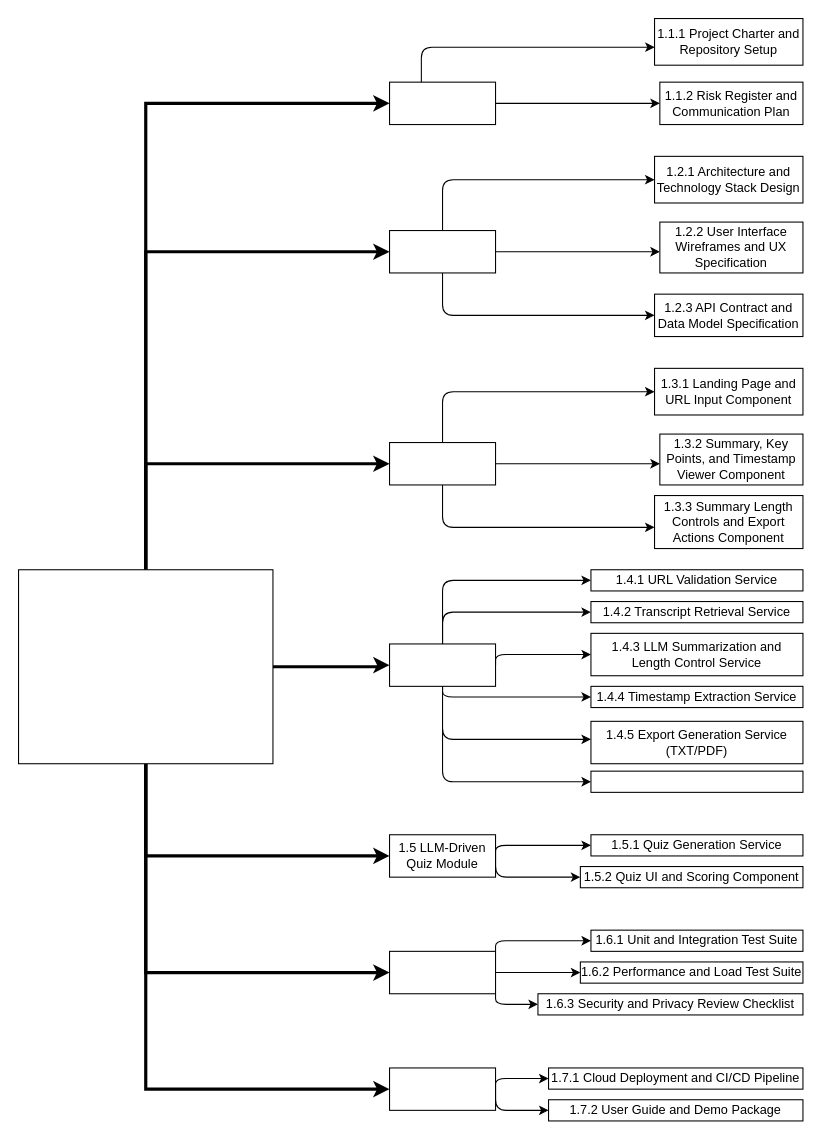
Image size: 821x1139. Some labels were removed from this diagram. Each missing label, with the box of its shape:
1.0 QuickClip (Video Summarizer + Practice Quiz) Project: (17, 569, 273, 764)
1.1 Project Management: (388, 81, 496, 125)
1.2 Requirements and Design: (388, 229, 496, 273)
1.3 Frontend Application: (388, 441, 496, 485)
1.4 Backend Services: (388, 643, 496, 686)
1.4.6 Caching and Storage Module: (590, 770, 803, 792)
1.6 Quality Assurance: (388, 950, 496, 994)
1.7 Deployment & Documentation: (388, 1067, 496, 1110)
